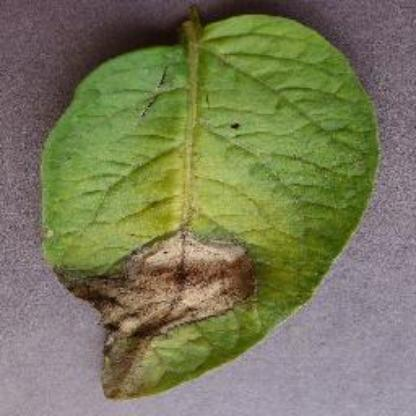Late-Blight: (28, 7, 384, 403)
